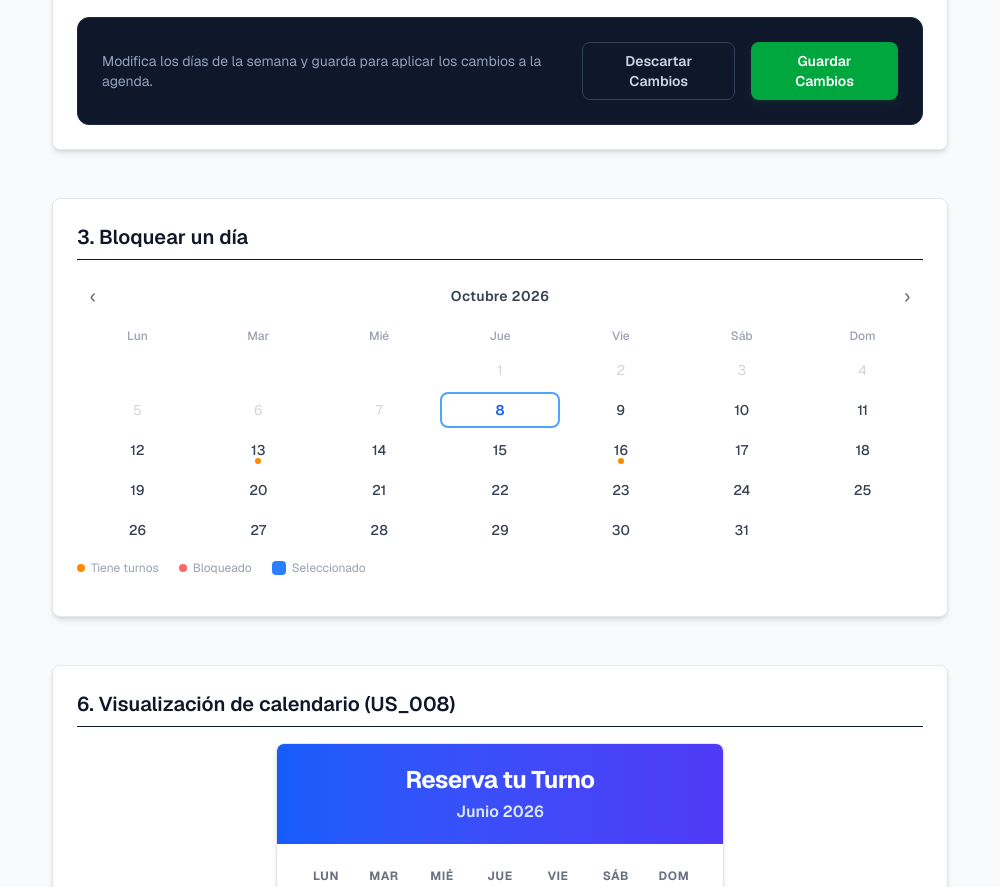
Test case: CP-006: Confirmar/Abortar bloqueo de días con reservas › CP-006-02: Debería abrir modal, abortar el bloqueo y mantener turnos intactos
(page scrolled)
Click the button "13" at (259, 450), box x1=198 y1=432 x2=319 y2=468
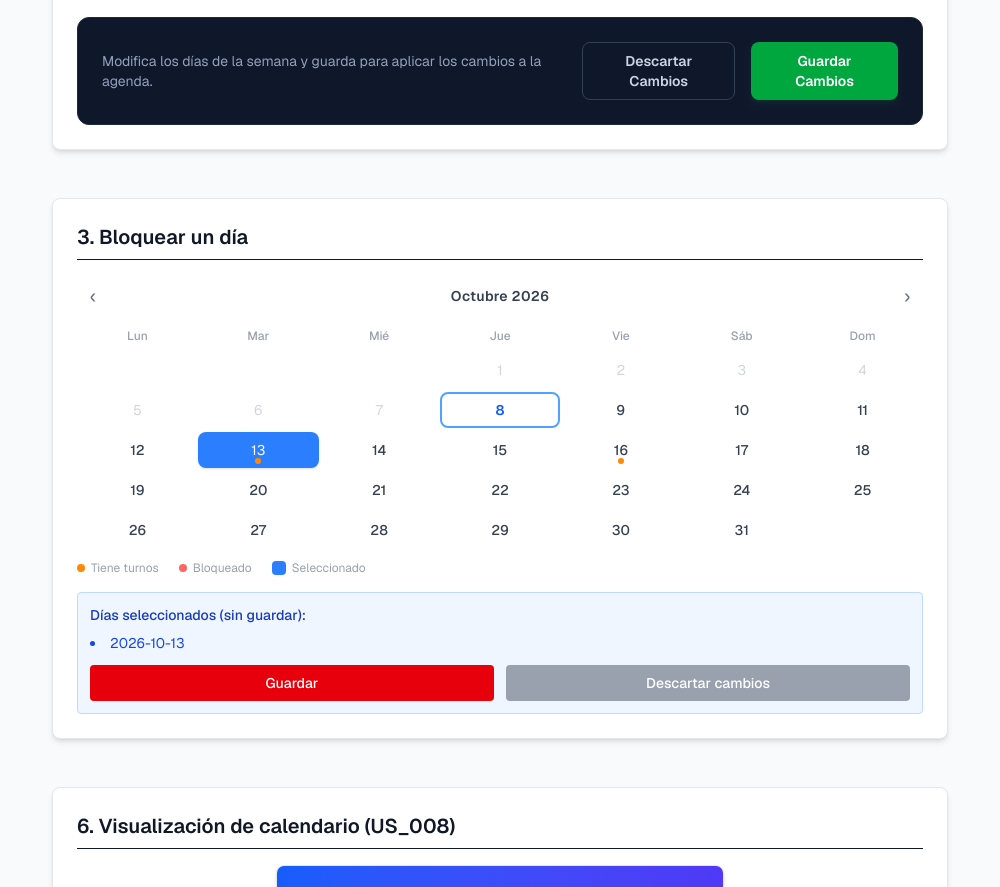
Click the button with test id "btn-guardar" at (292, 683), box x1=90 y1=665 x2=494 y2=701
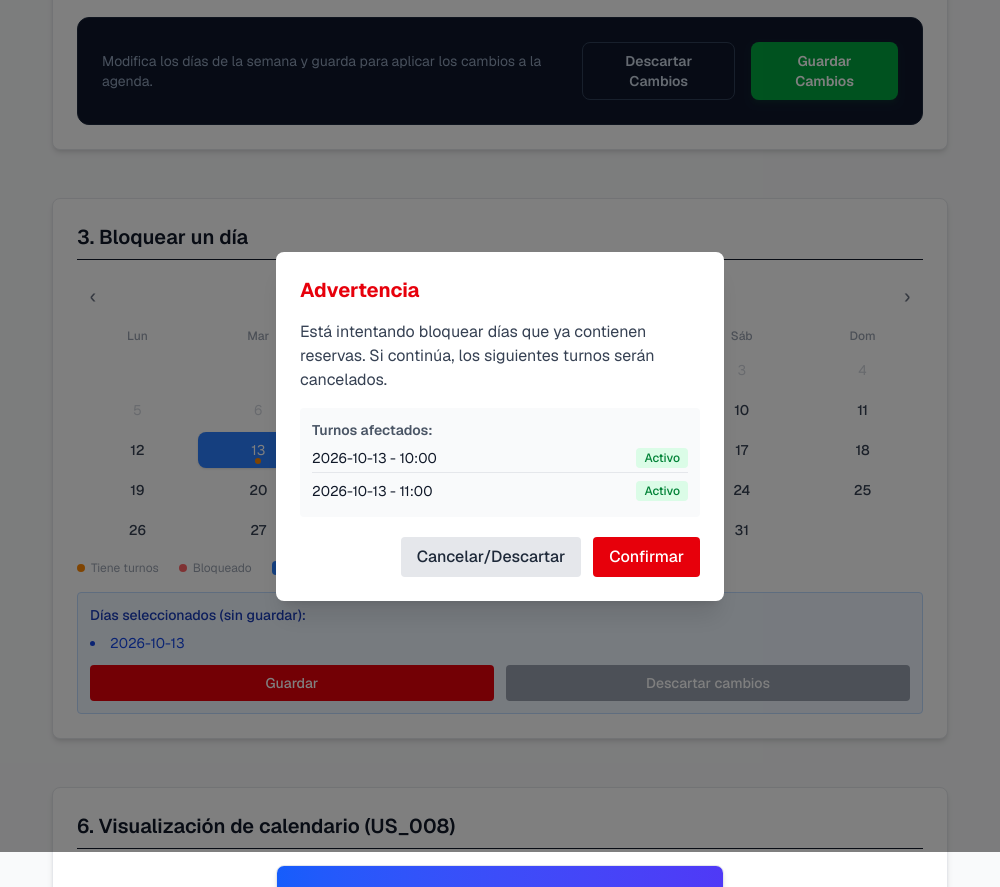
Expected: the element with test id "modal-advertencia" is shown, x1=276 y1=252 x2=724 y2=601
Click the button with test id "btn-abortar-bloqueo" at (492, 557), box x1=401 y1=537 x2=582 y2=577
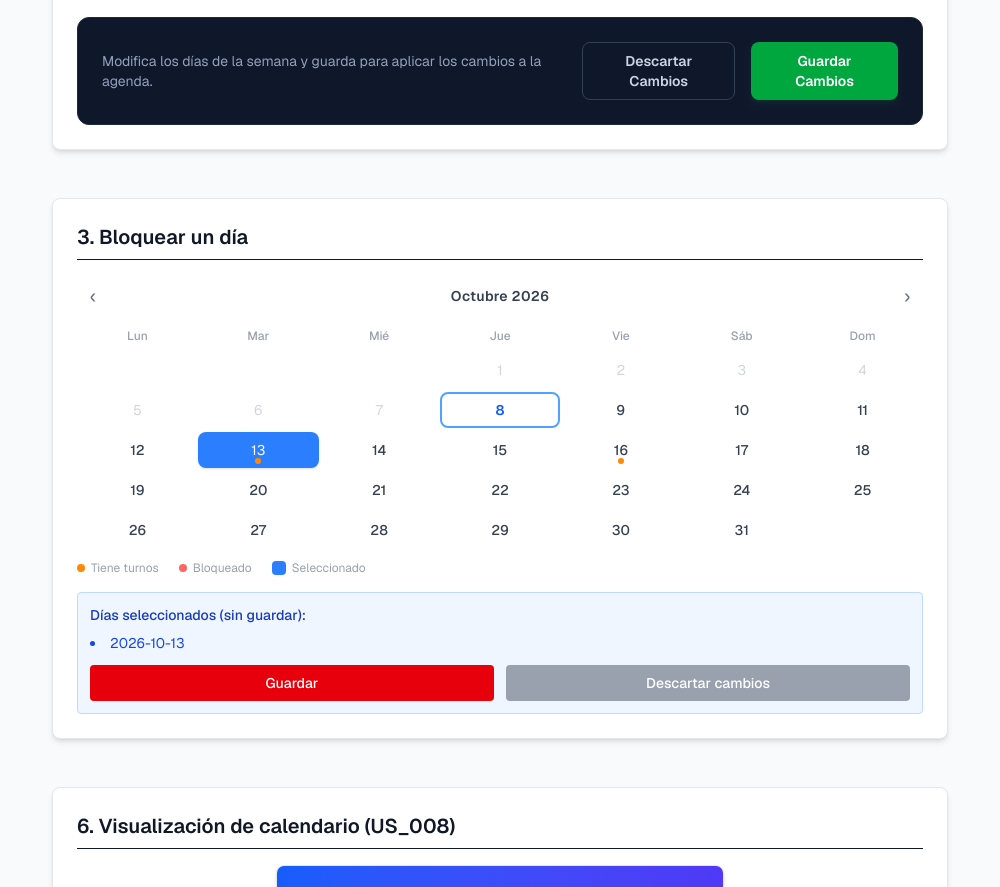
Expected: the element with test id "modal-advertencia" is gone
